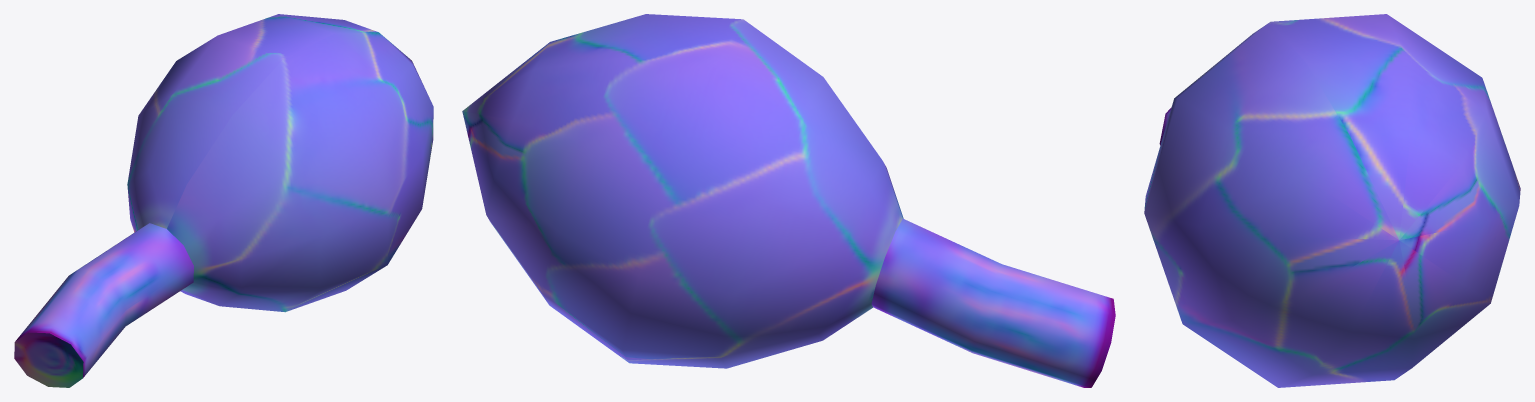
File: Artichoke.fbx
The picture shows the model from 3 angles, left to right: view 1: azimuth 30°, elevation 25°; view 2: azimuth 150°, elevation 25°; view 3: azimuth 270°, elevation 25°; orthographic projection. The views are drawn at different scales.
Visible parts, largest first — view 1: Artichoke; view 2: Artichoke; view 3: Artichoke.
Part boxes in pixels (<box>): Artichoke: <box>14,14,433,387</box>; Artichoke: <box>462,14,1115,387</box>; Artichoke: <box>1144,14,1520,387</box>.
Size of the model in its own units: 29.04 by 15.31 by 15.81.
